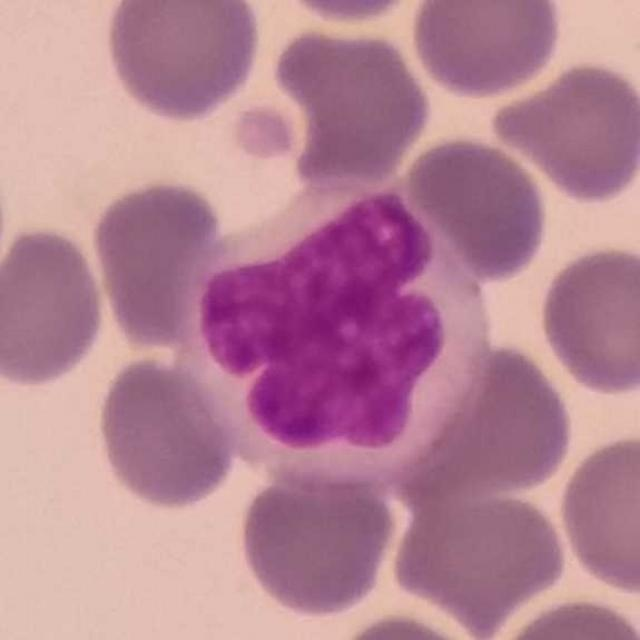Monocyte: (171, 180, 490, 495)
Platelets: (224, 99, 299, 164)
RBC: (400, 336, 578, 504), (233, 458, 400, 621), (273, 20, 434, 189), (388, 486, 571, 631), (88, 175, 228, 353), (91, 351, 242, 513), (402, 131, 552, 284), (489, 57, 640, 206), (100, 0, 266, 125), (1, 222, 109, 390), (534, 240, 640, 398), (408, 0, 565, 101), (554, 429, 640, 602), (483, 592, 640, 640), (325, 609, 494, 640), (266, 0, 433, 27)
